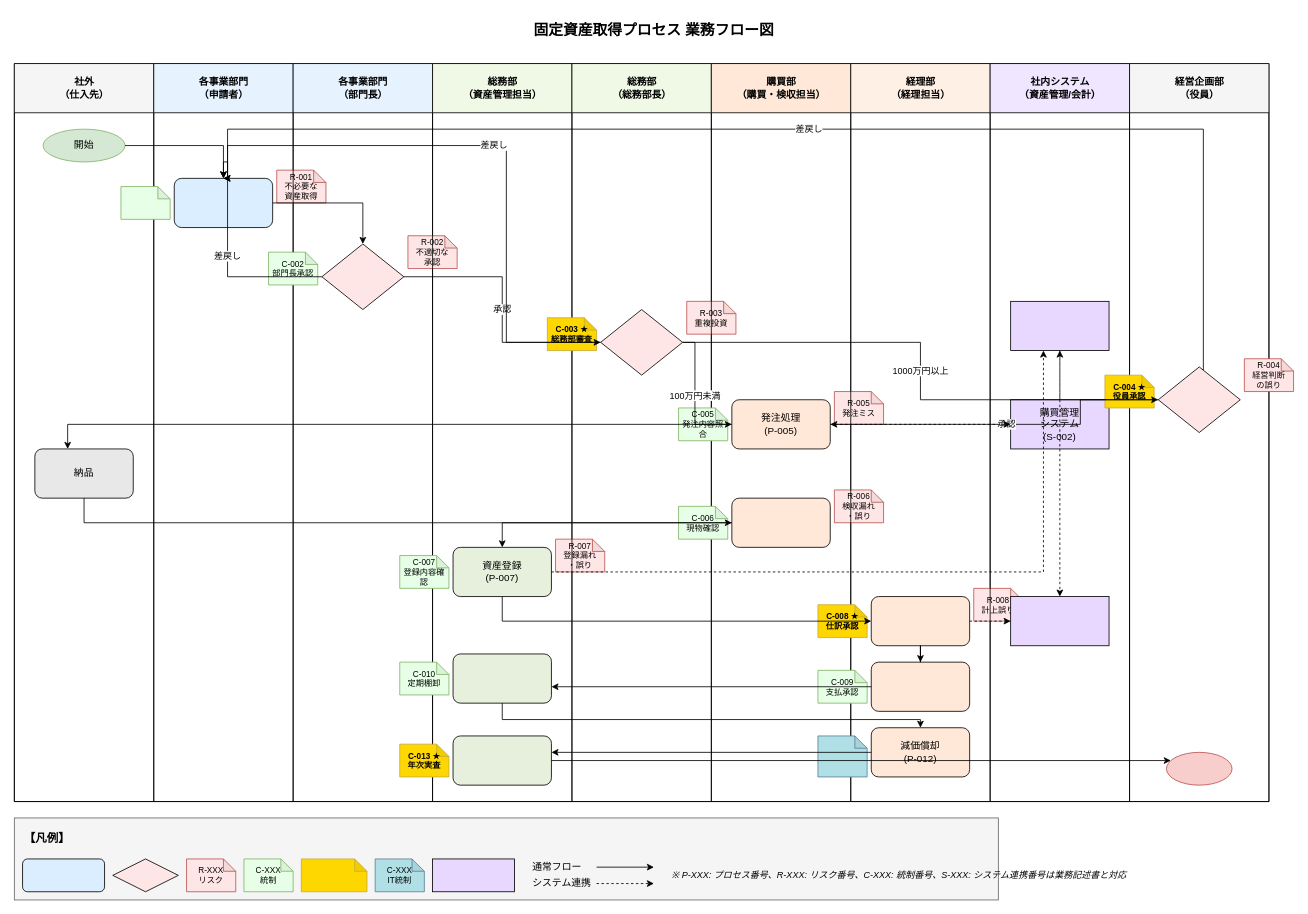
This 1308x914 diagram has some shape labels left out. Here are the shapes that lost their labels. From the top down, the centre of each, then its label:
At point (145, 202): "C-001 予算枠確認".
At point (223, 203): "購入申請 (P-001)".
At point (362, 276): "申請承認 （第1次） (P-002)".
At point (641, 342): "申請承認 （第2次） (P-003)".
At point (1059, 326): "資産管理 システム (S-001)".
At point (1198, 399): "経営承認 (P-004)".
At point (780, 522): "検収 (P-006)".
At point (920, 621): "会計処理 (P-008)".
At point (1059, 621): "会計 システム (S-003)".
At point (501, 678): "現物確認 (P-010)".
At point (920, 686): "支払処理 (P-009)".
At point (501, 760): "固定資産実査 (P-013)".
At point (842, 756): "C-012 償却計算 検証 [IT統制]".
At point (1199, 768): "終了".
At point (63, 875): "業務プロセス".
At point (145, 875): "承認・判断".
At point (334, 875): "C-XXX ★ キーコントロール".
At point (473, 875): "システム処理".
